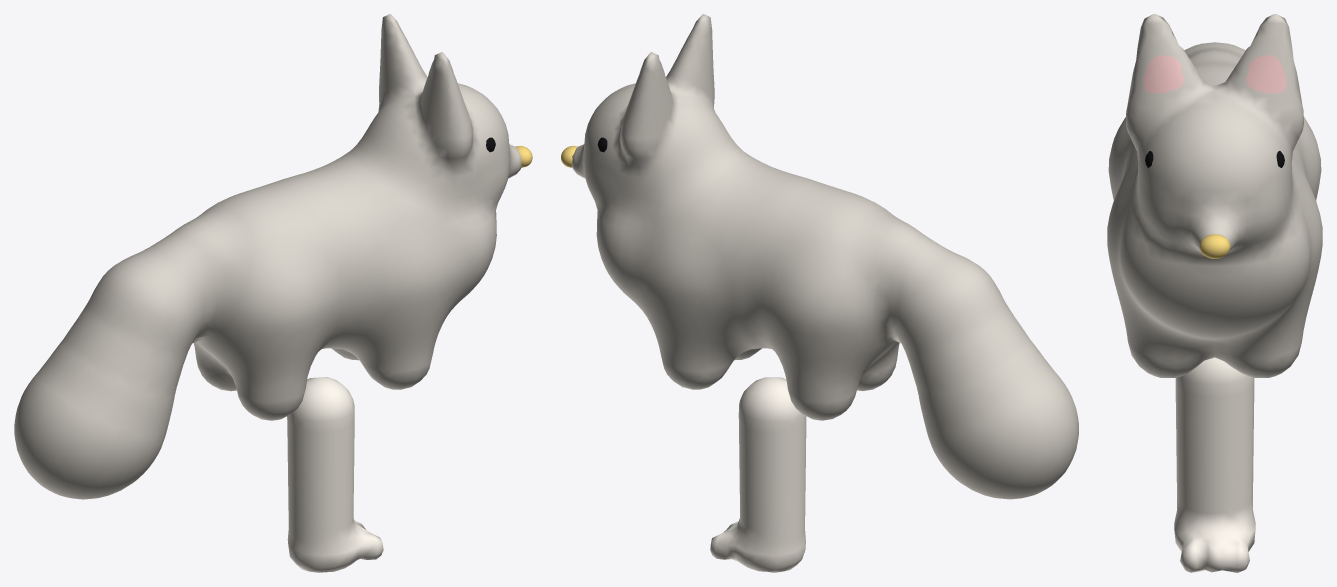
The model's file is arcticFox125_adult.glb.
The picture shows the model from 3 angles, left to right: view 1: azimuth 30°, elevation 25°; view 2: azimuth 150°, elevation 25°; view 3: azimuth 270°, elevation 25°; orthographic projection. The views are drawn at different scales.
Parts seen in each view (by area): view 1: body, leg; view 2: body, leg; view 3: body, leg, beak.
Part boxes in pixels (x1=…): body: x1=14, y1=14, x2=521, y2=499; leg: x1=287, y1=377, x2=383, y2=572; body: x1=571, y1=14, x2=1078, y2=499; leg: x1=710, y1=377, x2=806, y2=572; body: x1=1107, y1=14, x2=1322, y2=377; leg: x1=1174, y1=357, x2=1255, y2=572; beak: x1=1199, y1=234, x2=1230, y2=258.
Bounding box in the file's own units: 3.05 × 2.91 × 0.9641.
